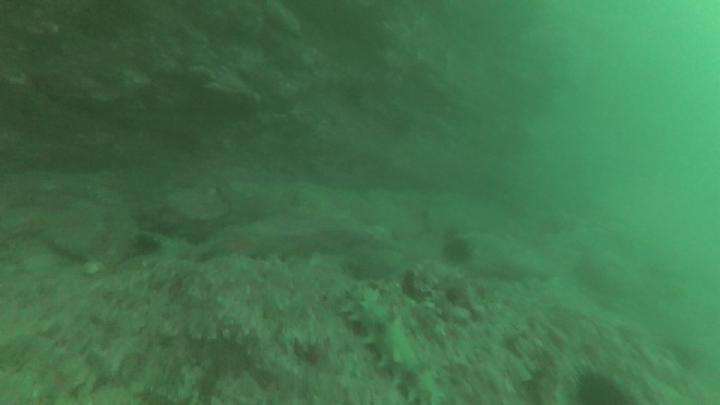echinus: (442, 237, 473, 267)
holothurian: (344, 287, 445, 404)
starfish: (202, 229, 273, 260)
